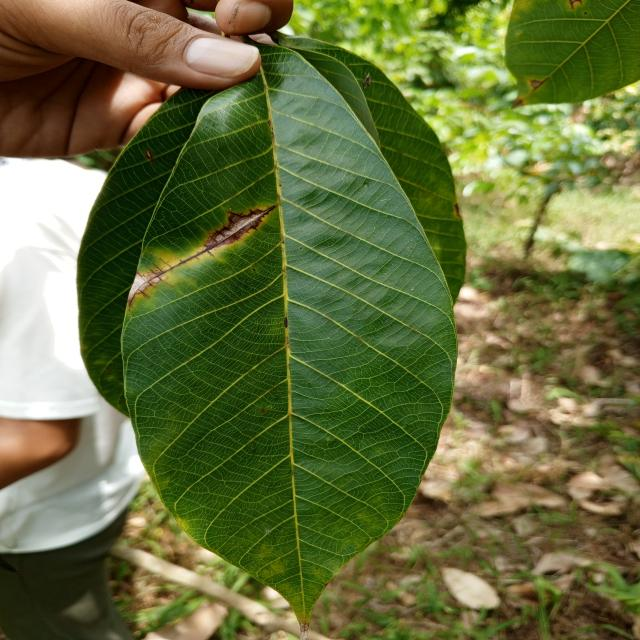Colletotrichum: (338, 566, 341, 568), (316, 568, 318, 569)
Corynespora: (204, 206, 276, 257), (146, 249, 212, 280)
Leaf-Blight: (128, 274, 159, 302), (299, 622, 309, 640)
